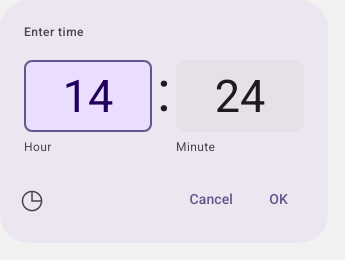
Test case: TimePicker › does not apply draft values when cancelled
Replace the text in the field named "Hour" with "20" at (88, 96), box x1=24 y1=60 x2=152 y2=132
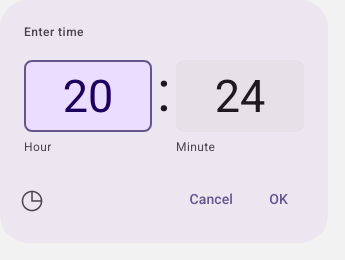
Click the button "Cancel" at (211, 199), box x1=178 y1=179 x2=245 y2=219
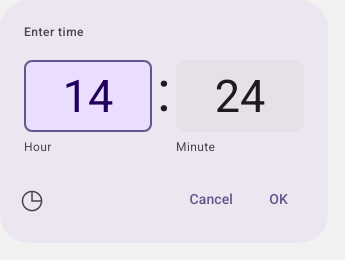
Check: the field named "Hour" holds "14", box x1=24 y1=60 x2=152 y2=132
